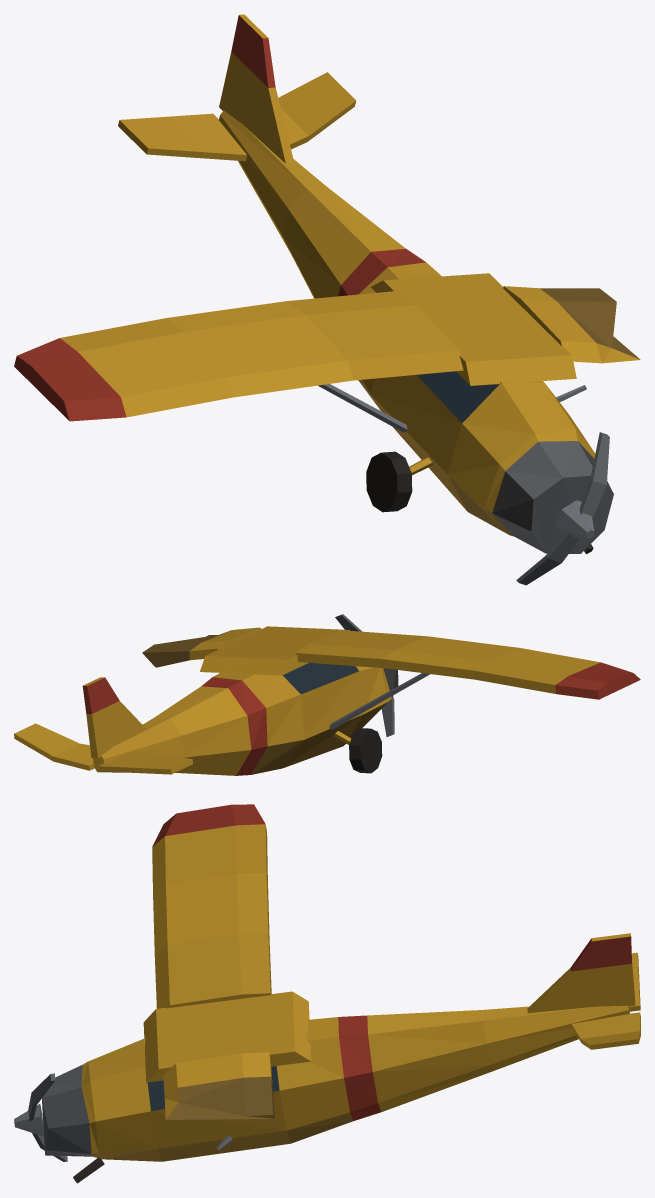
3 renders of one model, top to bottom at view 1: azimuth 30°, elevation 25°; view 2: azimuth 150°, elevation 25°; view 3: azimuth 270°, elevation 25°, orthographic. The views are drawn at different scales.
Visible parts, largest first — view 1: plane; view 2: plane; view 3: plane.
Boxes of the visible parts, <box> form: plane: <box>14,14,640,585</box>; plane: <box>14,614,640,775</box>; plane: <box>14,804,640,1183</box>.
Bounding box in the file's own units: 7.84 × 3.83 × 8.65.
